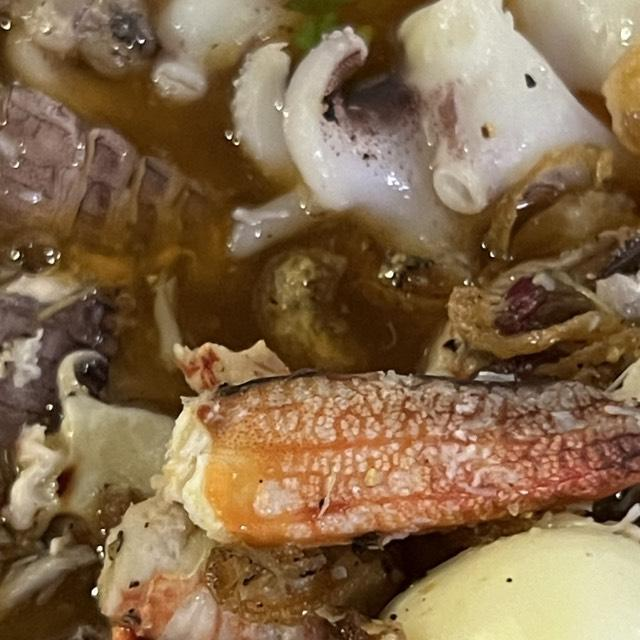muc: (197, 0, 640, 303)
tom tit: (0, 0, 273, 319), (0, 161, 218, 467), (0, 359, 184, 640)
trung: (307, 498, 640, 640), (481, 0, 640, 209)
